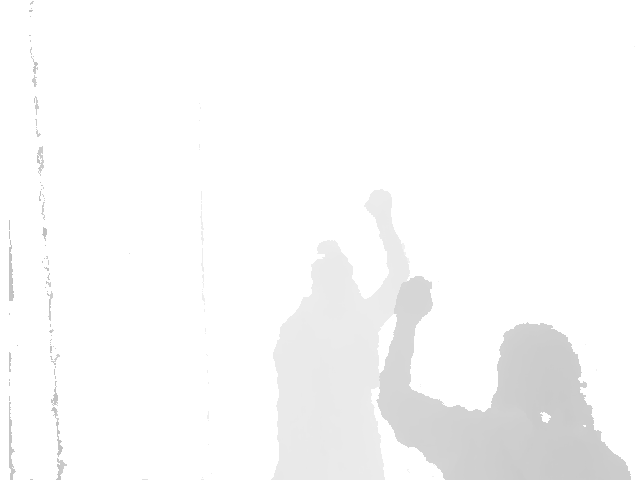hand: (394, 276, 433, 321), (364, 189, 394, 216)
head: (495, 324, 592, 427), (310, 240, 353, 316)
person: (376, 275, 631, 480), (269, 189, 413, 480)
